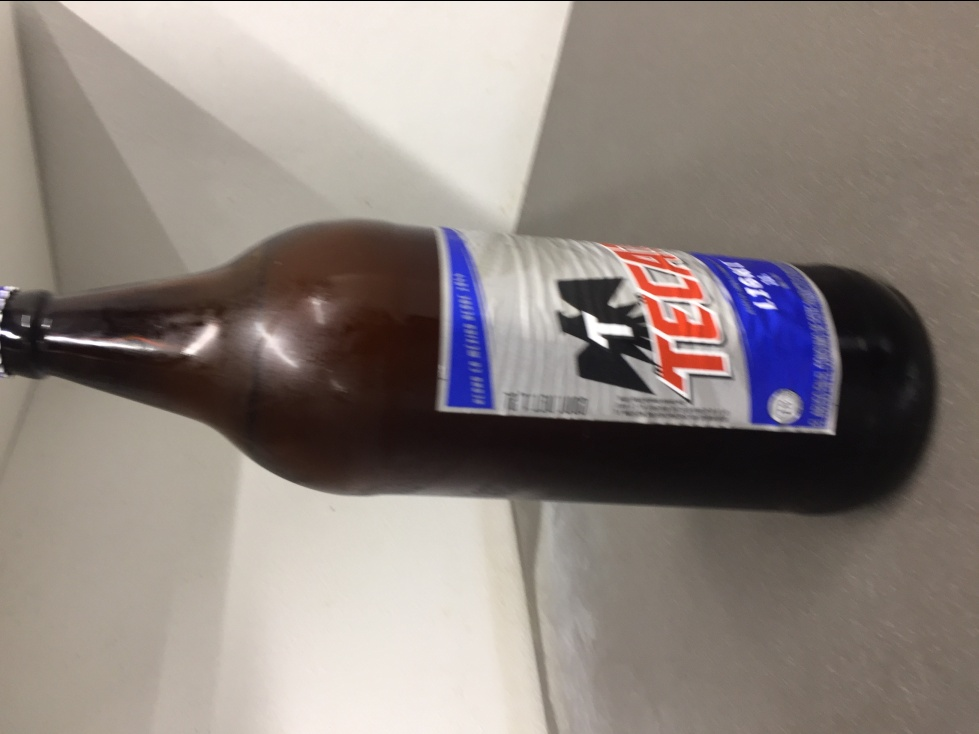tecateC: (4, 216, 939, 511)
